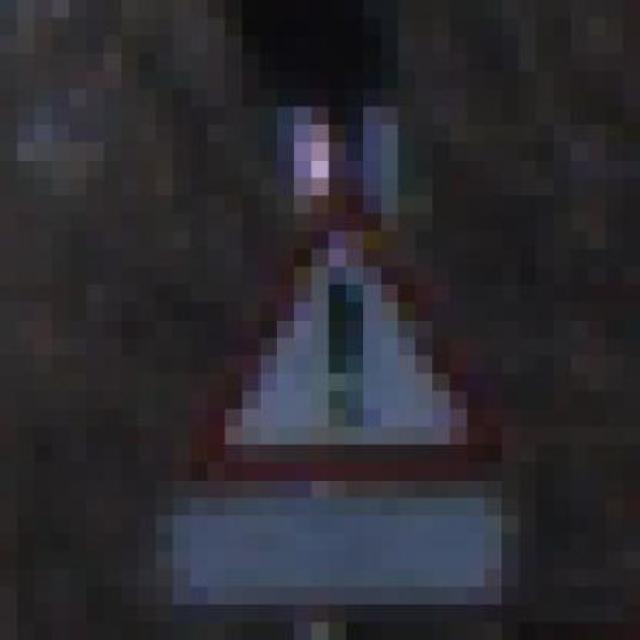Attention Please-: (138, 178, 502, 480)
